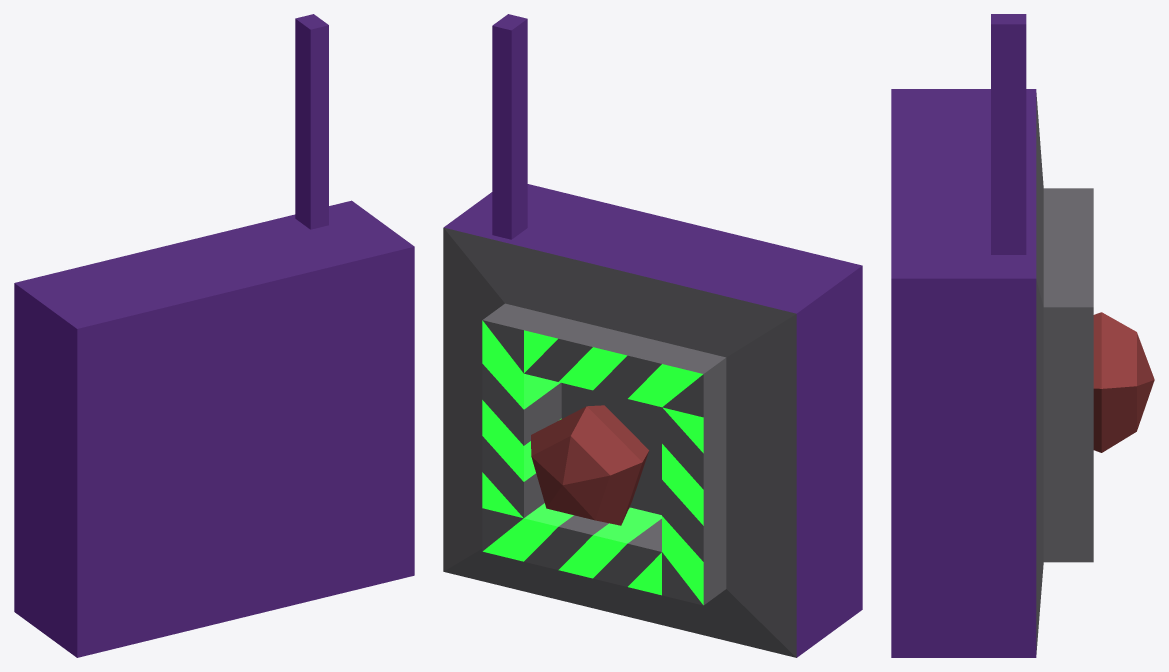
File: Gamejam_Controller.fbx
3 views of the same model, side by side, from view 1: azimuth 30°, elevation 25°; view 2: azimuth 150°, elevation 25°; view 3: azimuth 270°, elevation 25° (orthographic). The views are drawn at different scales.
Parts seen in each view (by area): view 1: controller, antenna; view 2: controller, button, antenna; view 3: controller, antenna, button.
Part boxes in pixels (x1,y1,x2,y2): controller: [14, 200, 414, 657]; antenna: [295, 14, 328, 229]; controller: [443, 184, 862, 657]; button: [531, 405, 648, 525]; antenna: [492, 14, 527, 239]; controller: [891, 89, 1093, 657]; antenna: [991, 14, 1026, 254]; button: [1093, 312, 1154, 452].
Size of the model in its own units: 255 by 383 by 150.
